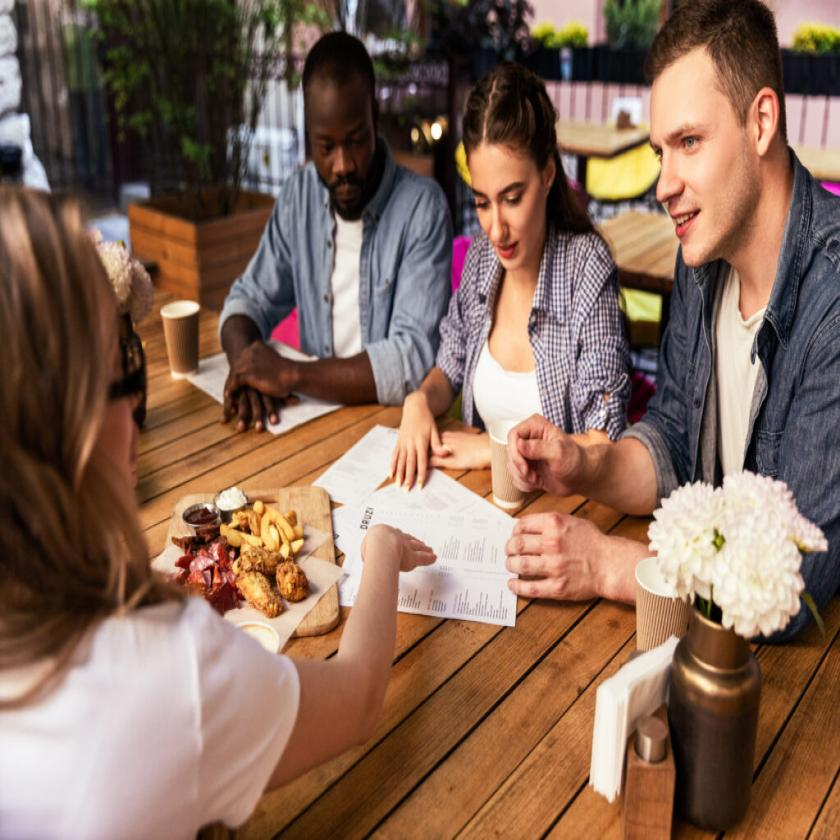Sin_casco: (639, 0, 783, 271), (454, 63, 561, 279), (289, 24, 392, 232)
